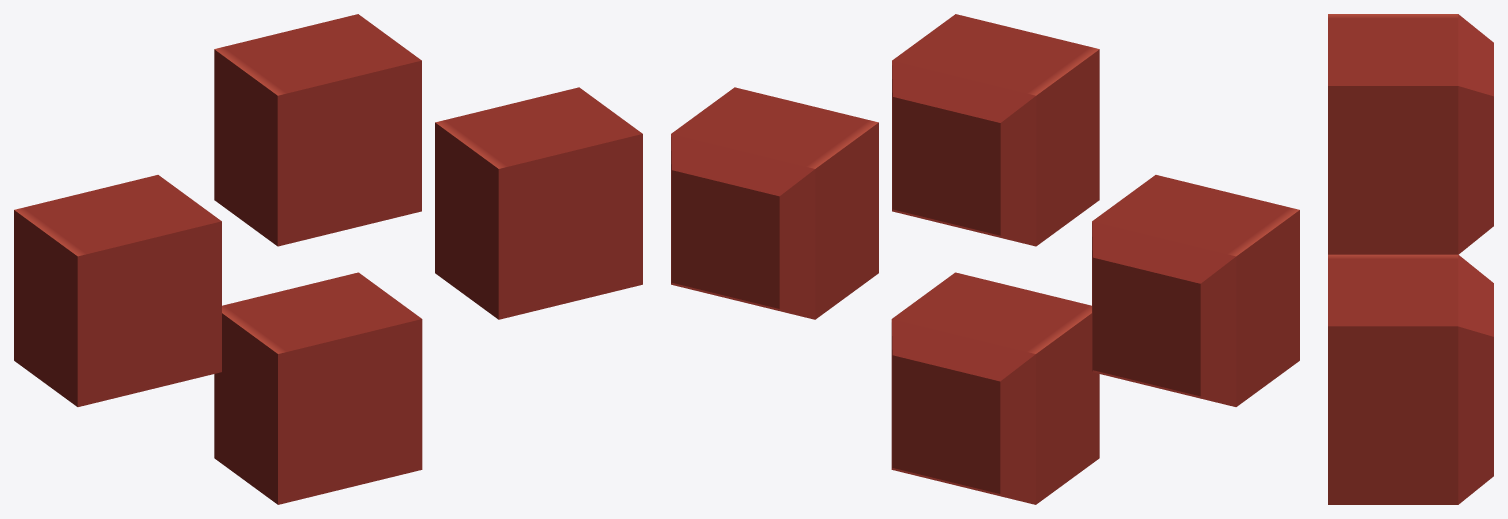
Rendered from Ore2.fbx.
3 views of the same model, side by side, from view 1: azimuth 30°, elevation 25°; view 2: azimuth 150°, elevation 25°; view 3: azimuth 270°, elevation 25° (orthographic). The views are drawn at different scales.
Parts seen in each view (by area): view 1: Cube.040; view 2: Cube.040; view 3: Cube.040.
Part boxes in pixels (x1,y1,x2,y2): Cube.040: (14,14,642,504); Cube.040: (671,14,1299,504); Cube.040: (1328,14,1493,504).
Bounding box in the file's own units: 0.9492 × 0.6569 × 0.2357.
